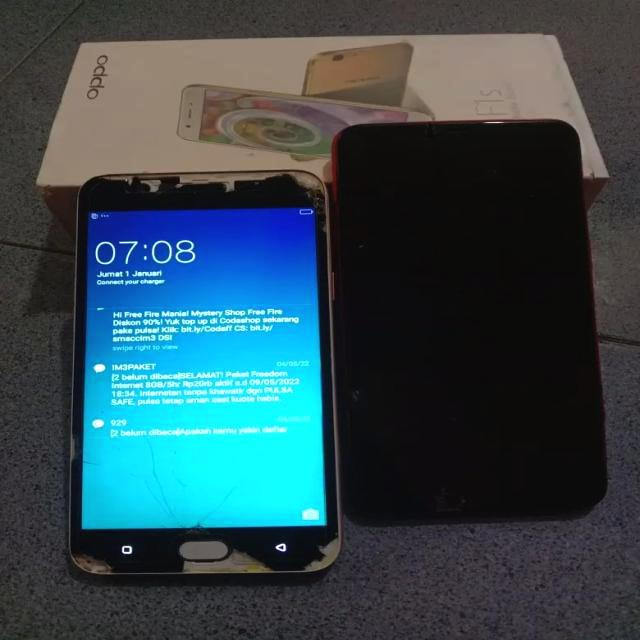phone: (342, 120, 600, 524), (82, 180, 334, 584)
